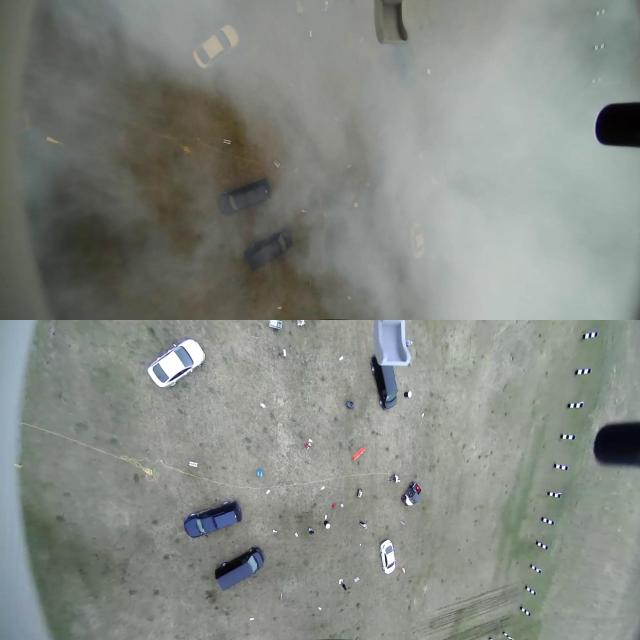car: (141, 334, 220, 388), (179, 23, 250, 75), (174, 491, 247, 539), (242, 233, 297, 280), (365, 348, 404, 412), (212, 176, 277, 214), (216, 549, 268, 593), (401, 209, 434, 268), (380, 539, 399, 580)
